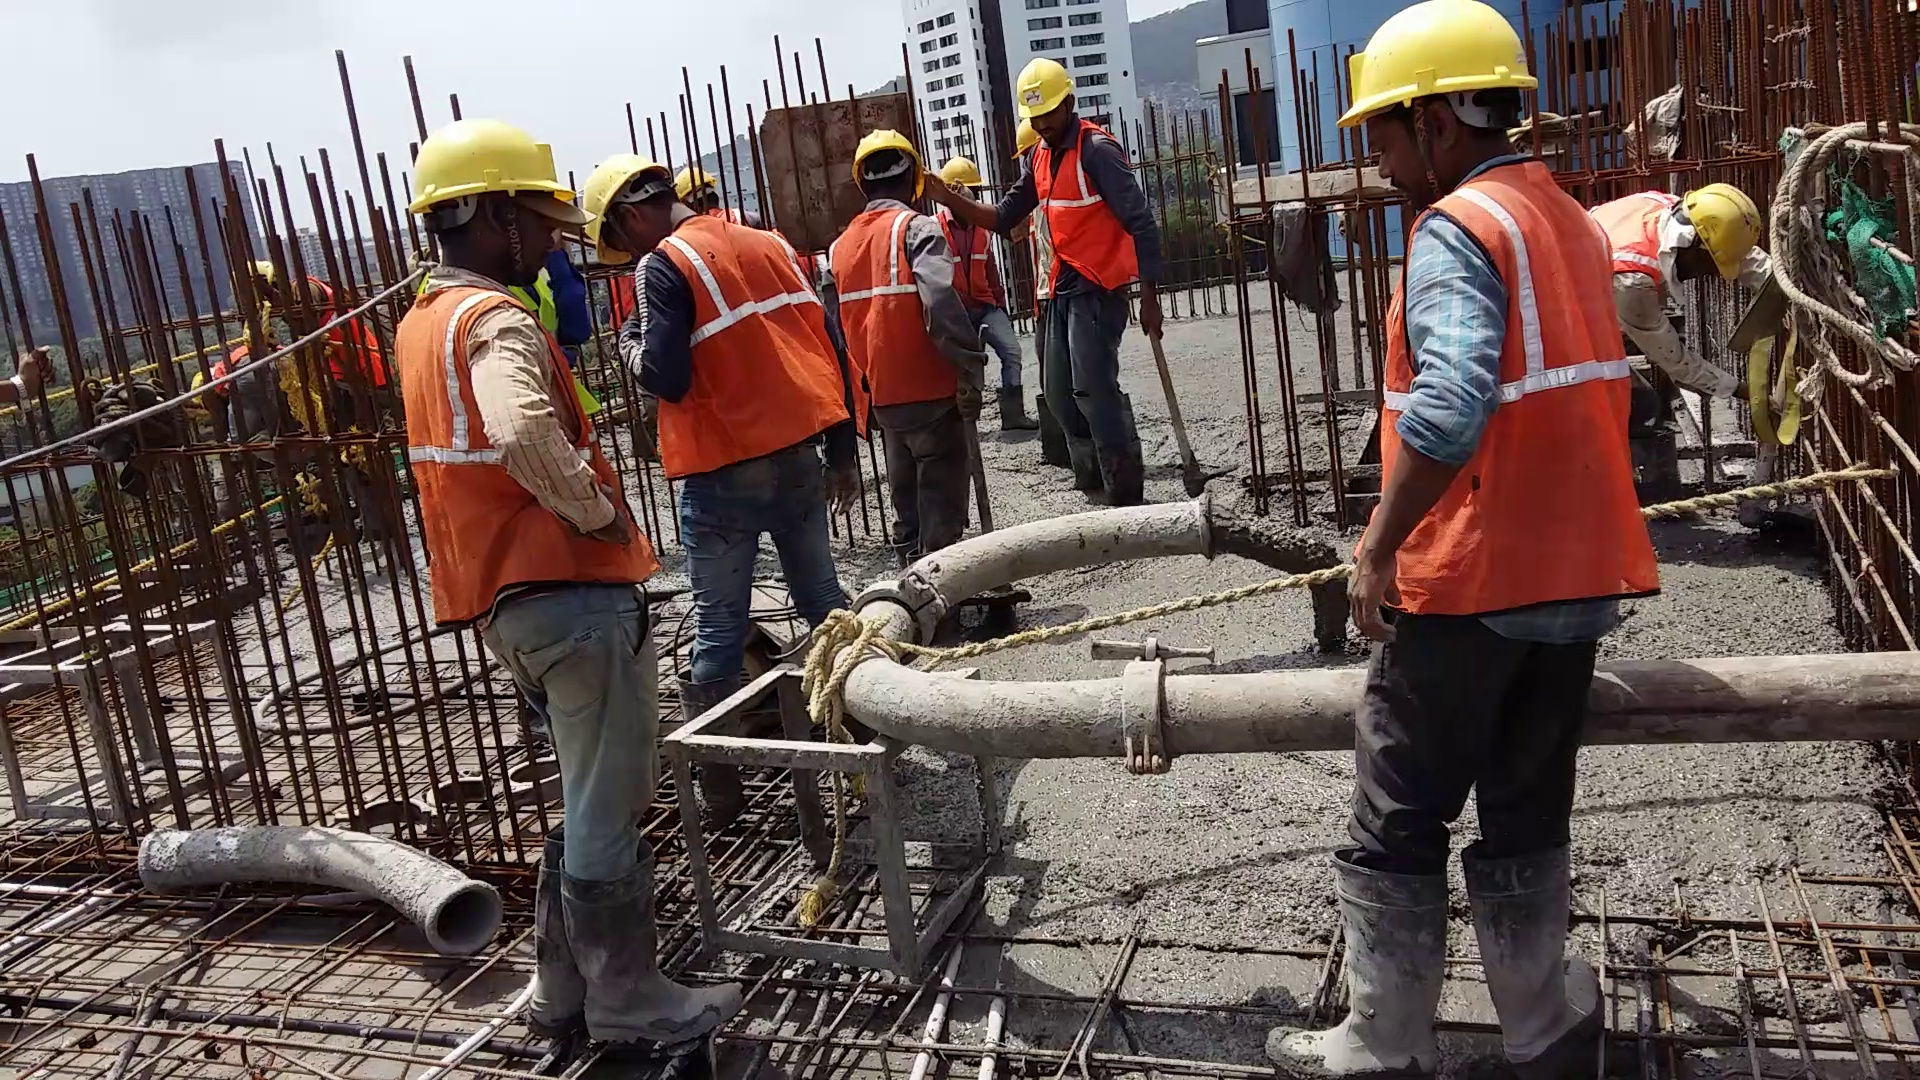SAFE: (1364, 1, 1621, 616), (393, 113, 595, 588), (593, 146, 828, 458), (832, 113, 956, 411), (1015, 51, 1130, 291)
